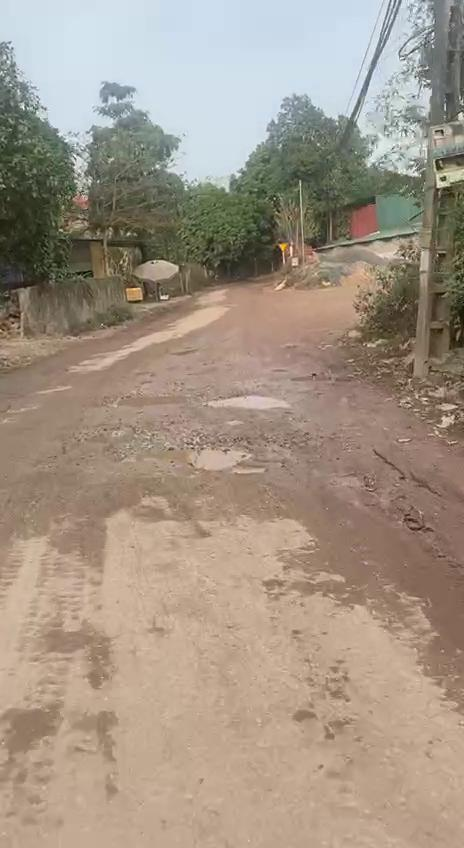pothole: (109, 433, 261, 476), (113, 388, 193, 412), (206, 393, 294, 414), (80, 423, 140, 448)
